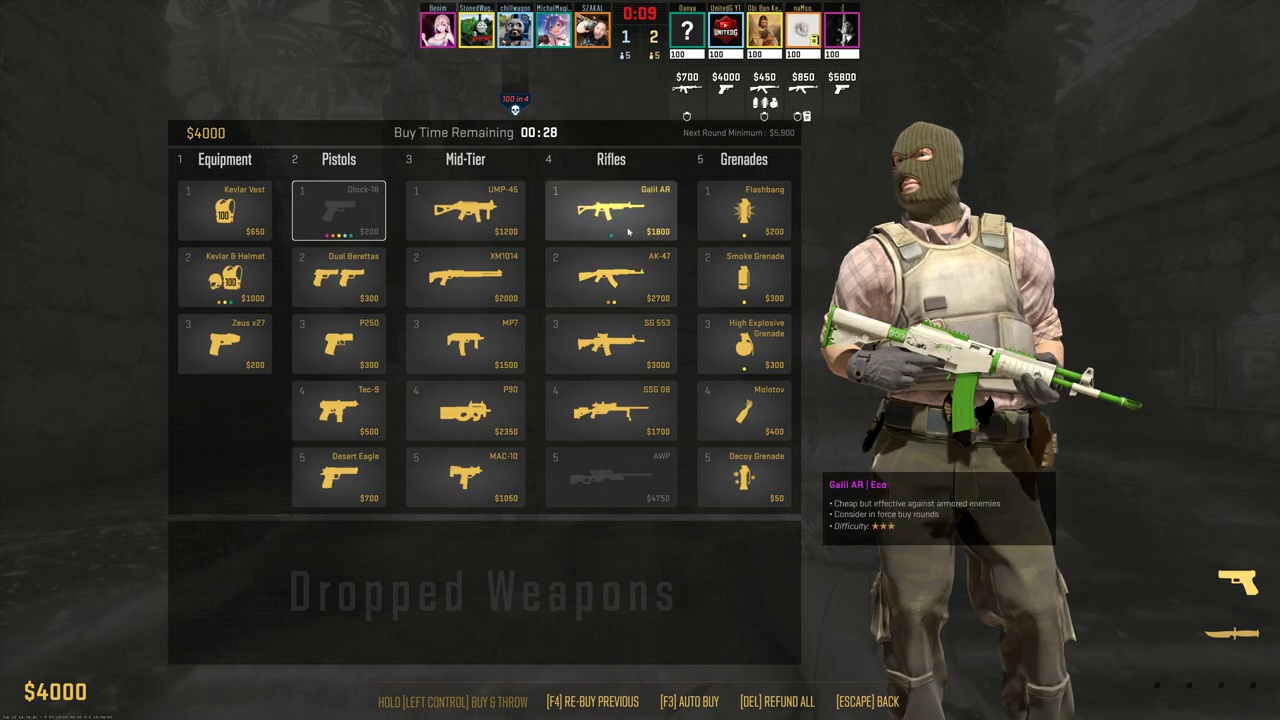Terrorist: (848, 122, 1075, 720)
